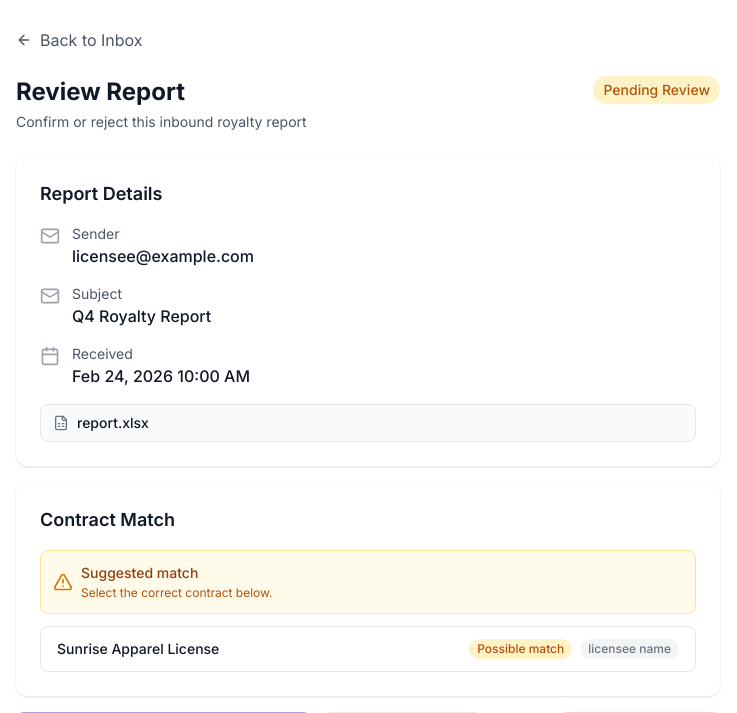
Scenario: Inbox Review Page › Suggestions state (medium confidence) › clicking a suggestion card selects that contract
Click the text "Sunrise Apparel License" at (138, 649), box [57,639,219,659]
(page scrolled)
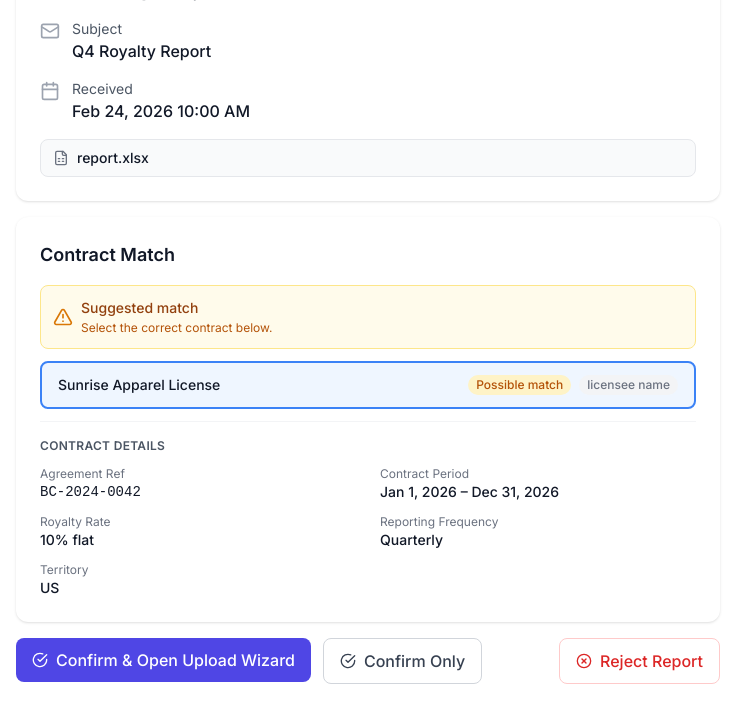
Now the button "Confirm & Open Upload Wizard" is enabled, box [16,638,311,682]
